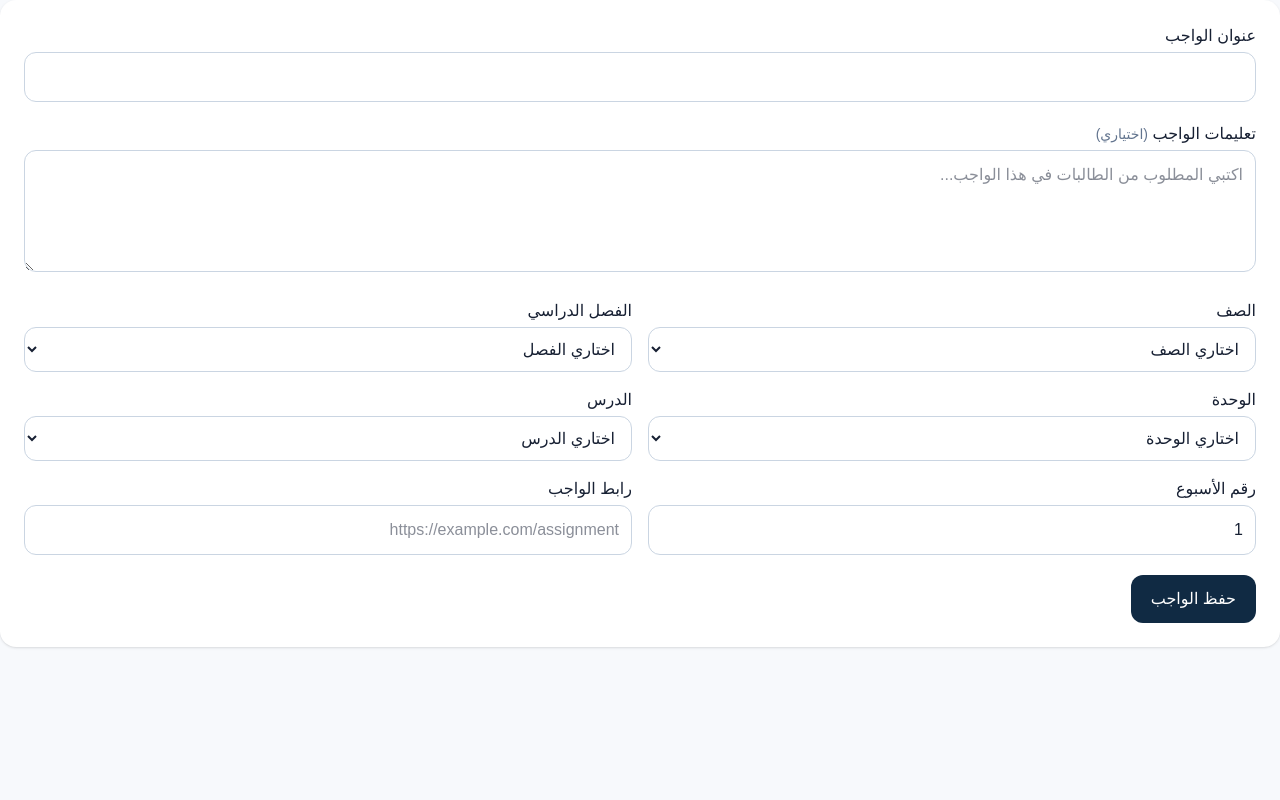
AssignmentForm › validates title, week, and HTTPS URL accessibly
Click the button "حفظ الواجب" at (1193, 599), box [1131,575,1256,623]
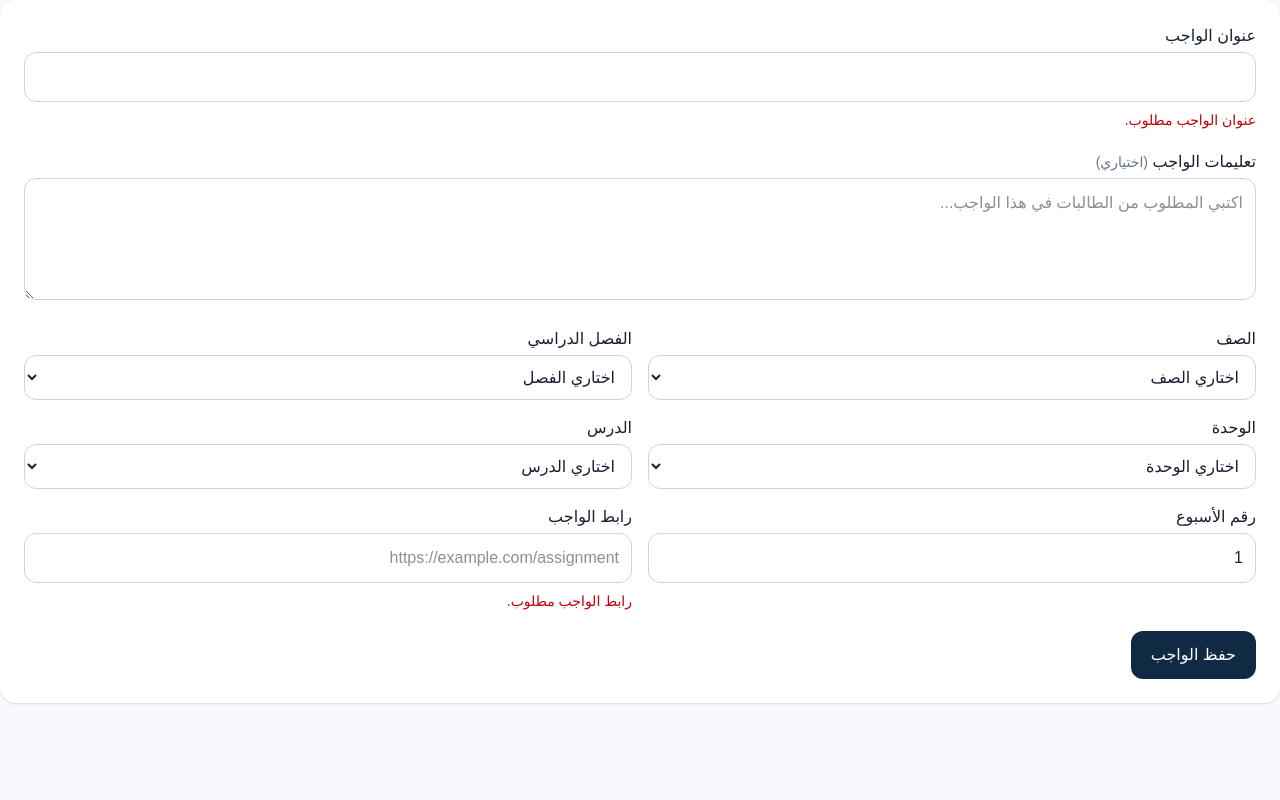
Expected: the text "عنوان الواجب مطلوب." is shown, [1125,112,1256,128]
